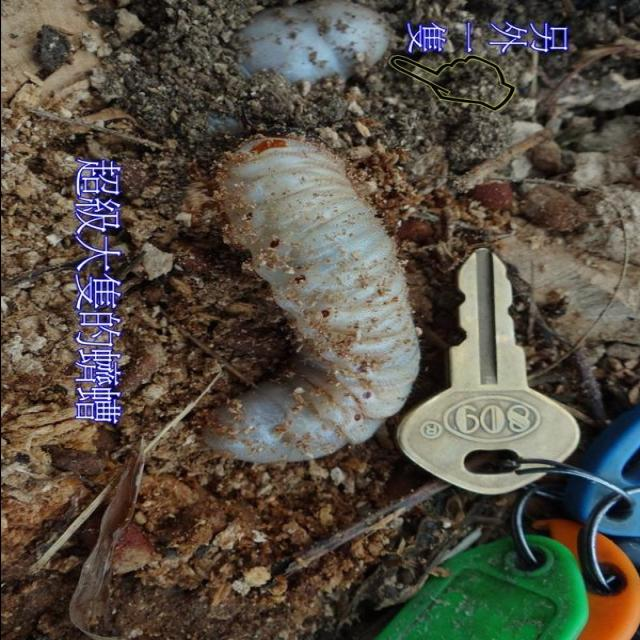grub: (201, 127, 430, 492)
